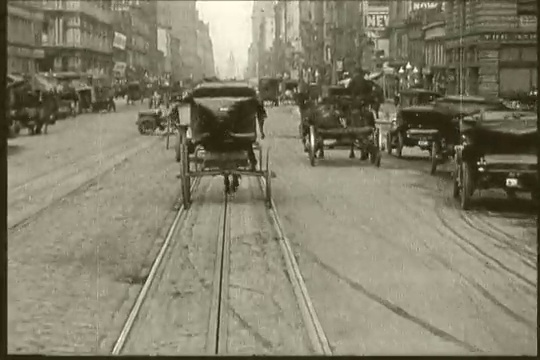car: (450, 103, 540, 222), (385, 81, 469, 187)
carriage: (177, 72, 282, 210), (291, 74, 391, 173)
